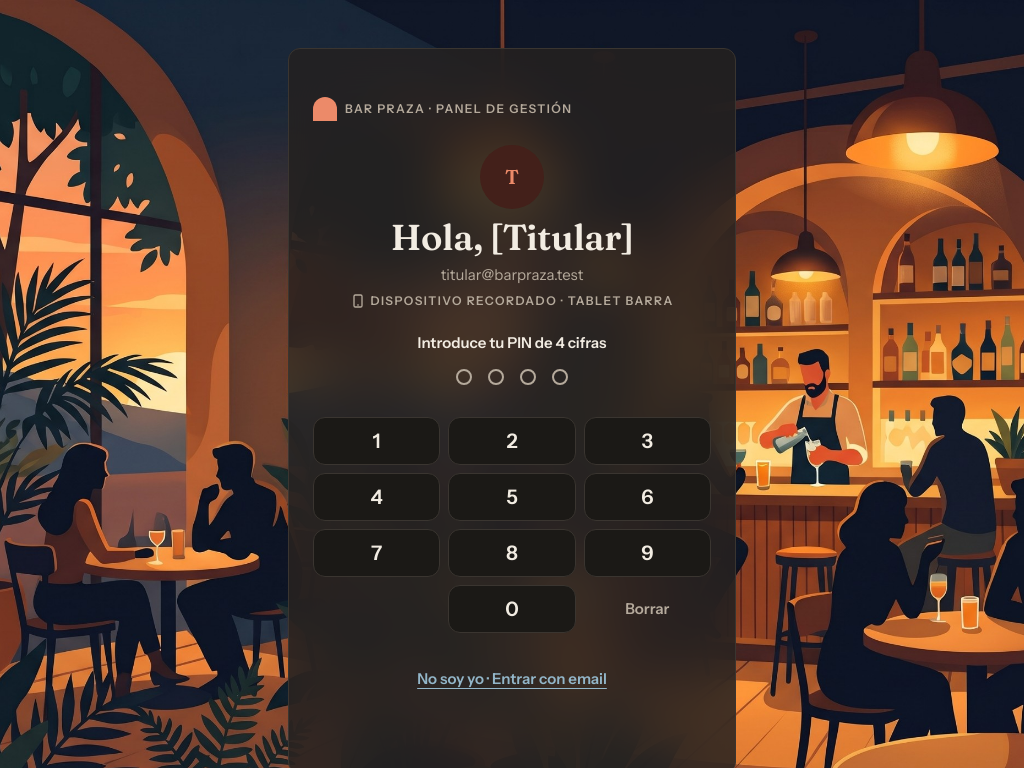
Test case: PIN unlock screen (/login/pin) › fills the dots as the keypad is pressed, and opens the panel with the right PIN
Check: the heading "Hola, [Titular]" is shown, box [391, 217, 633, 257]
Click the button "1". click: click(377, 441)
box: [313, 417, 440, 465]
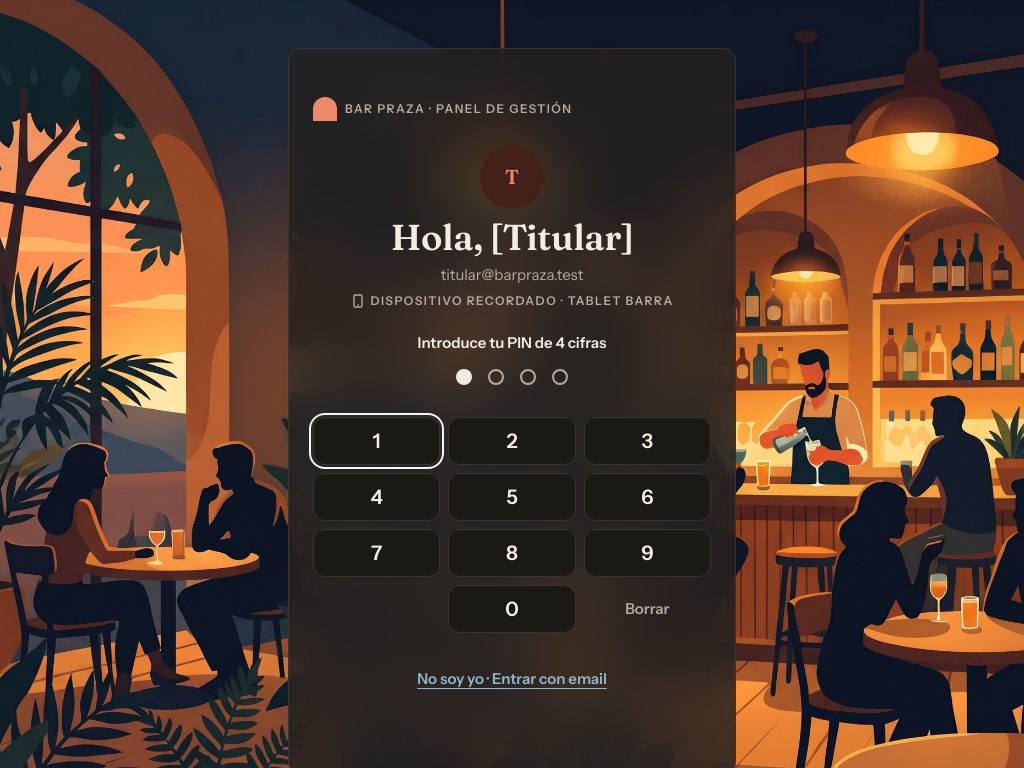
Click the button "2". click: click(512, 441)
box: [448, 417, 576, 465]
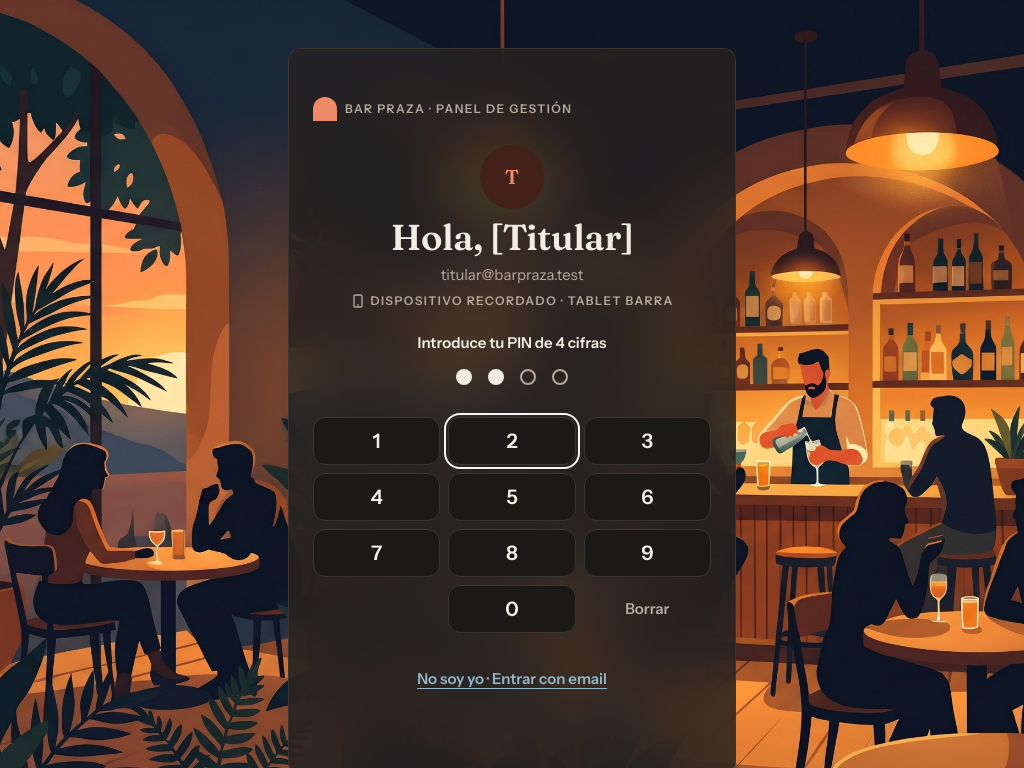
Check: the message named "PIN, 2 de 4 cifras" is shown, box [456, 369, 568, 385]
Click the button "3". click: click(647, 441)
box: [584, 417, 711, 465]
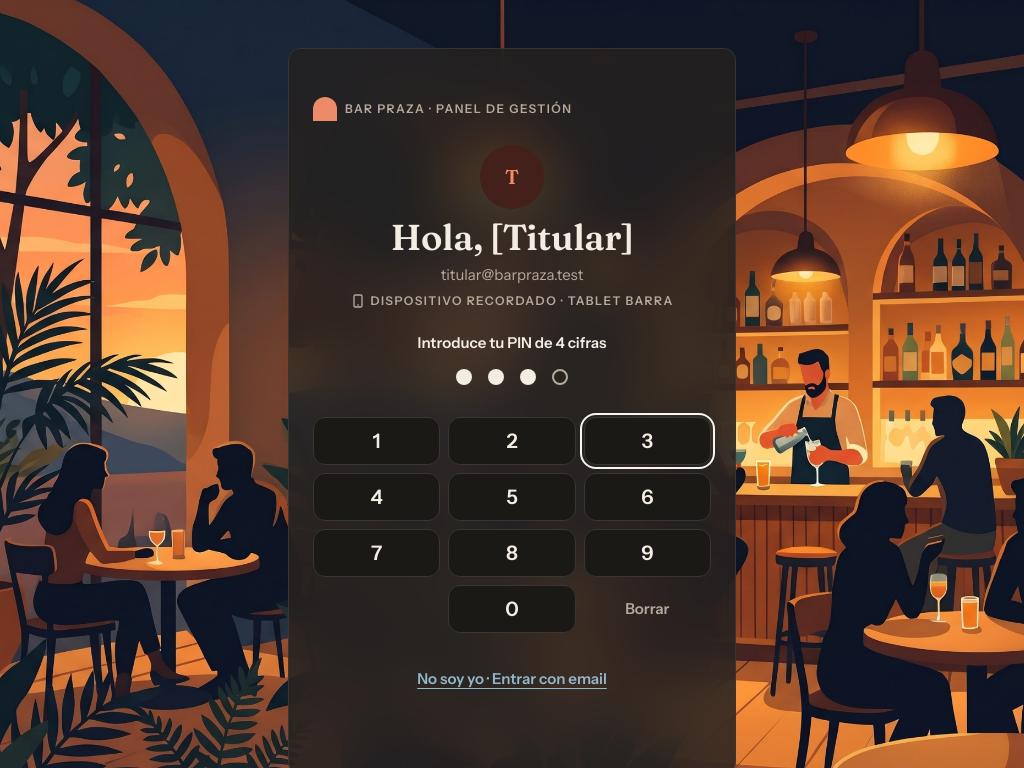
Click the button "4". click: click(377, 497)
box: [313, 473, 440, 521]
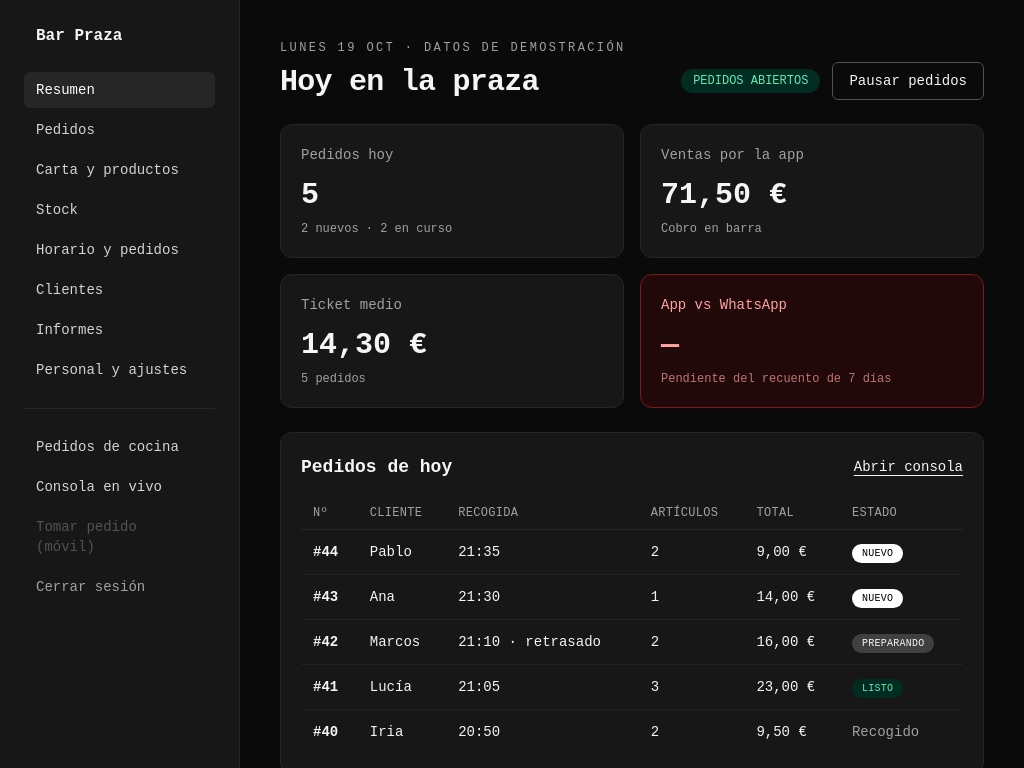
Check: the heading "Hoy en la praza" is shown, box [280, 65, 539, 99]
